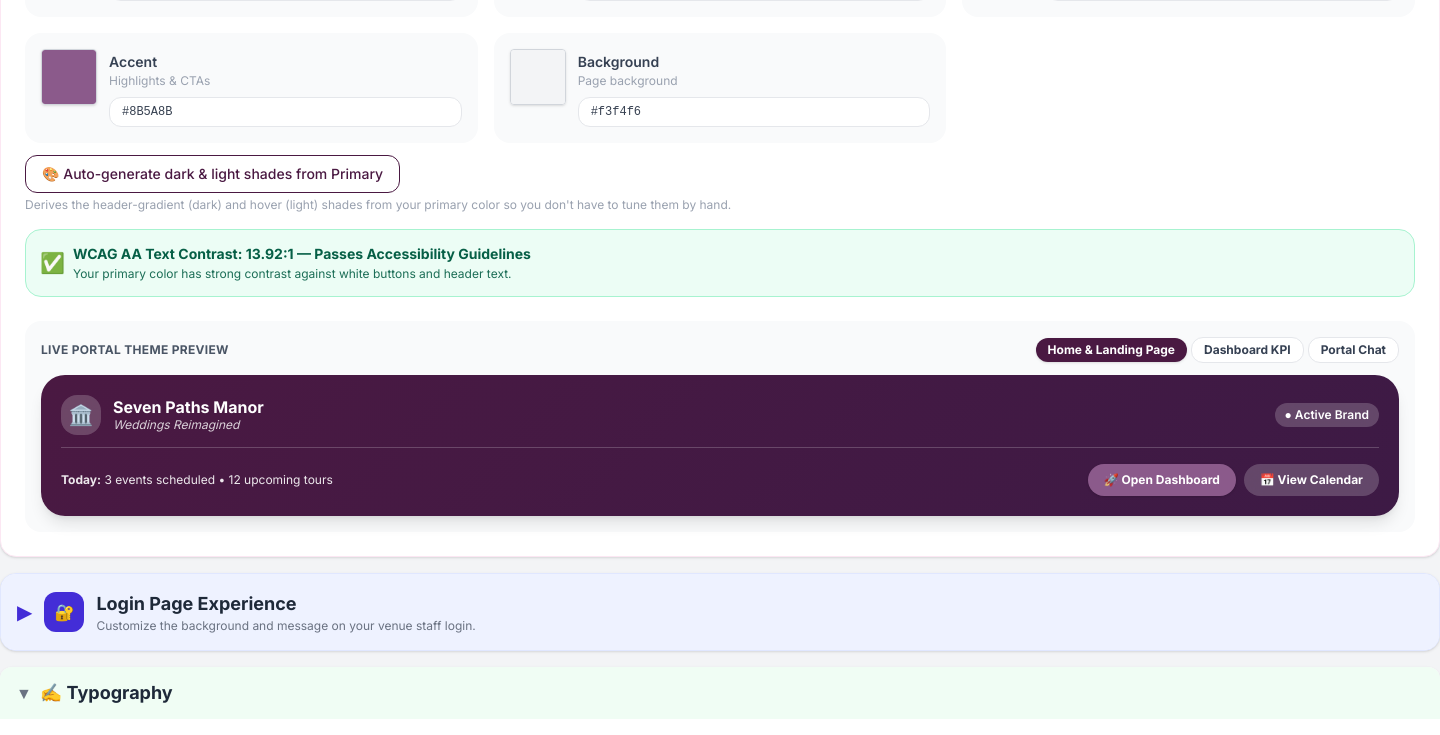
Test: BrandingManagement UI/UX & Live Branding Theme Engine (#149) › switches between Header Banner, Dashboard KPI, and Portal Chat preview tabs
This screenshot has width=1440, height=735.
(page scrolled)
Expected: the text "● Active Brand" is shown, [1275,402,1379,426]
Click Dashboard KPI tab
Step 1. Click the button "Dashboard KPI" → (1247, 350), box [1191,336,1304,362]
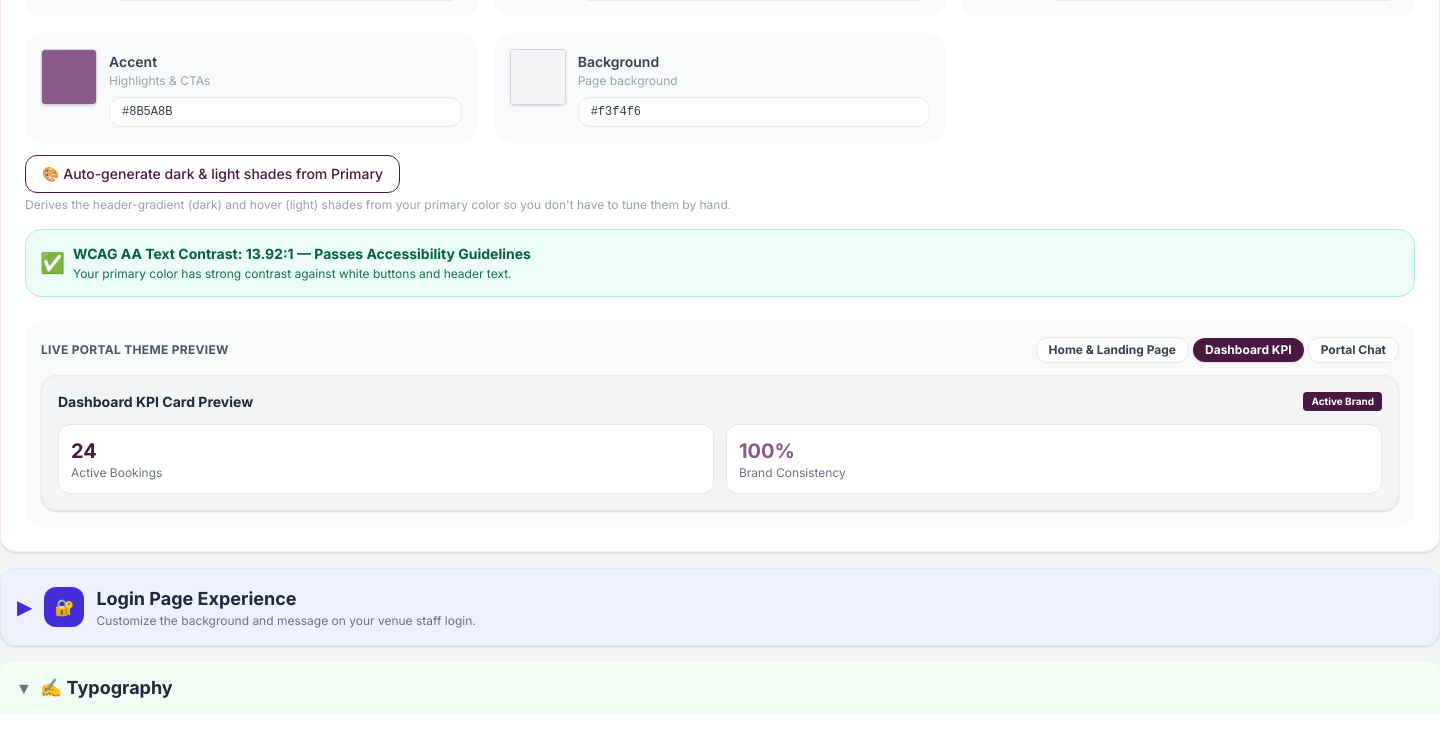
Expected: the text "Active Brand" is shown, [1304,392,1382,411]
Result: the text "Dashboard KPI Card Preview" is shown at [58,392,253,412]
Click Portal Chat tab
Step 2. Click the button "Portal Chat" → (1353, 350), box [1308,336,1399,362]
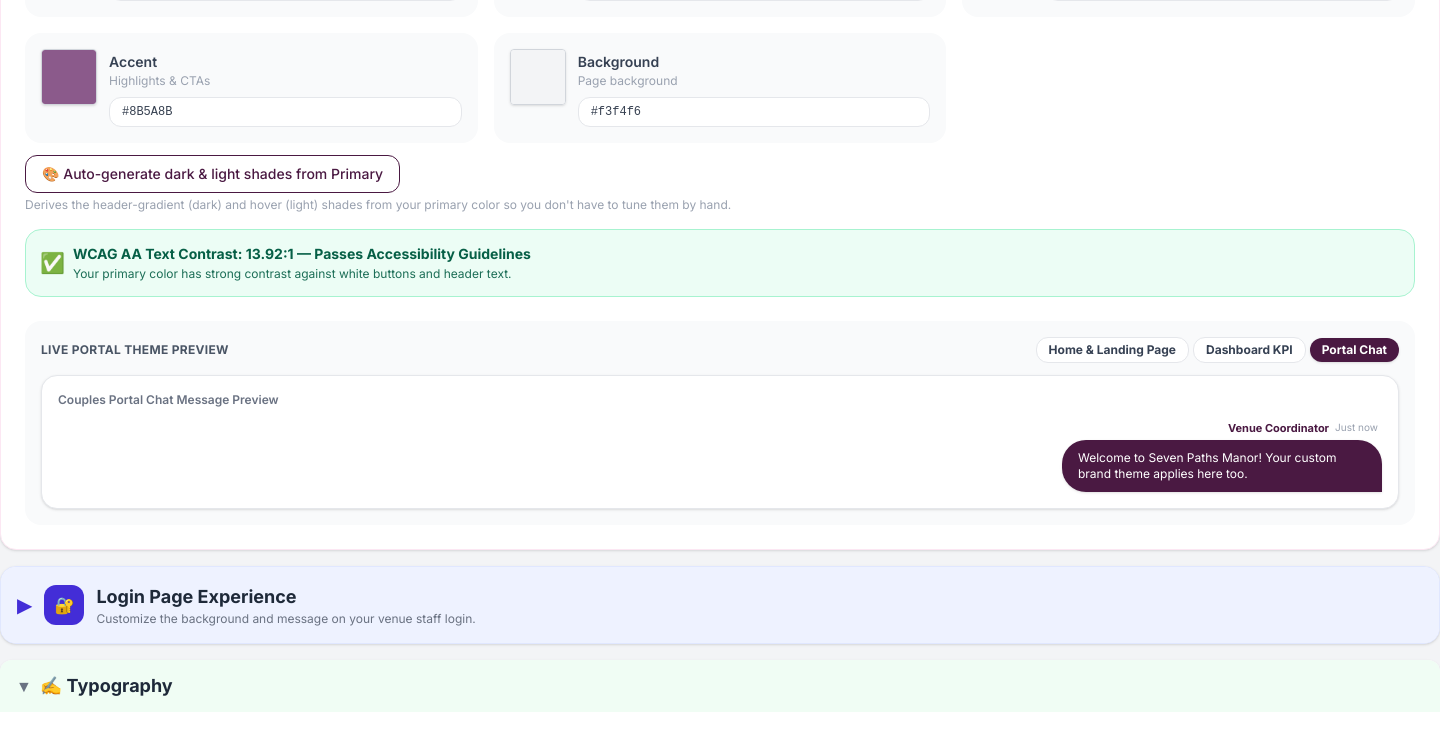
Result: the text "Couples Portal Chat Message Preview" is shown at [58,392,279,406]
Result: the text "Venue Coordinator" is shown at [1228,420,1329,436]
